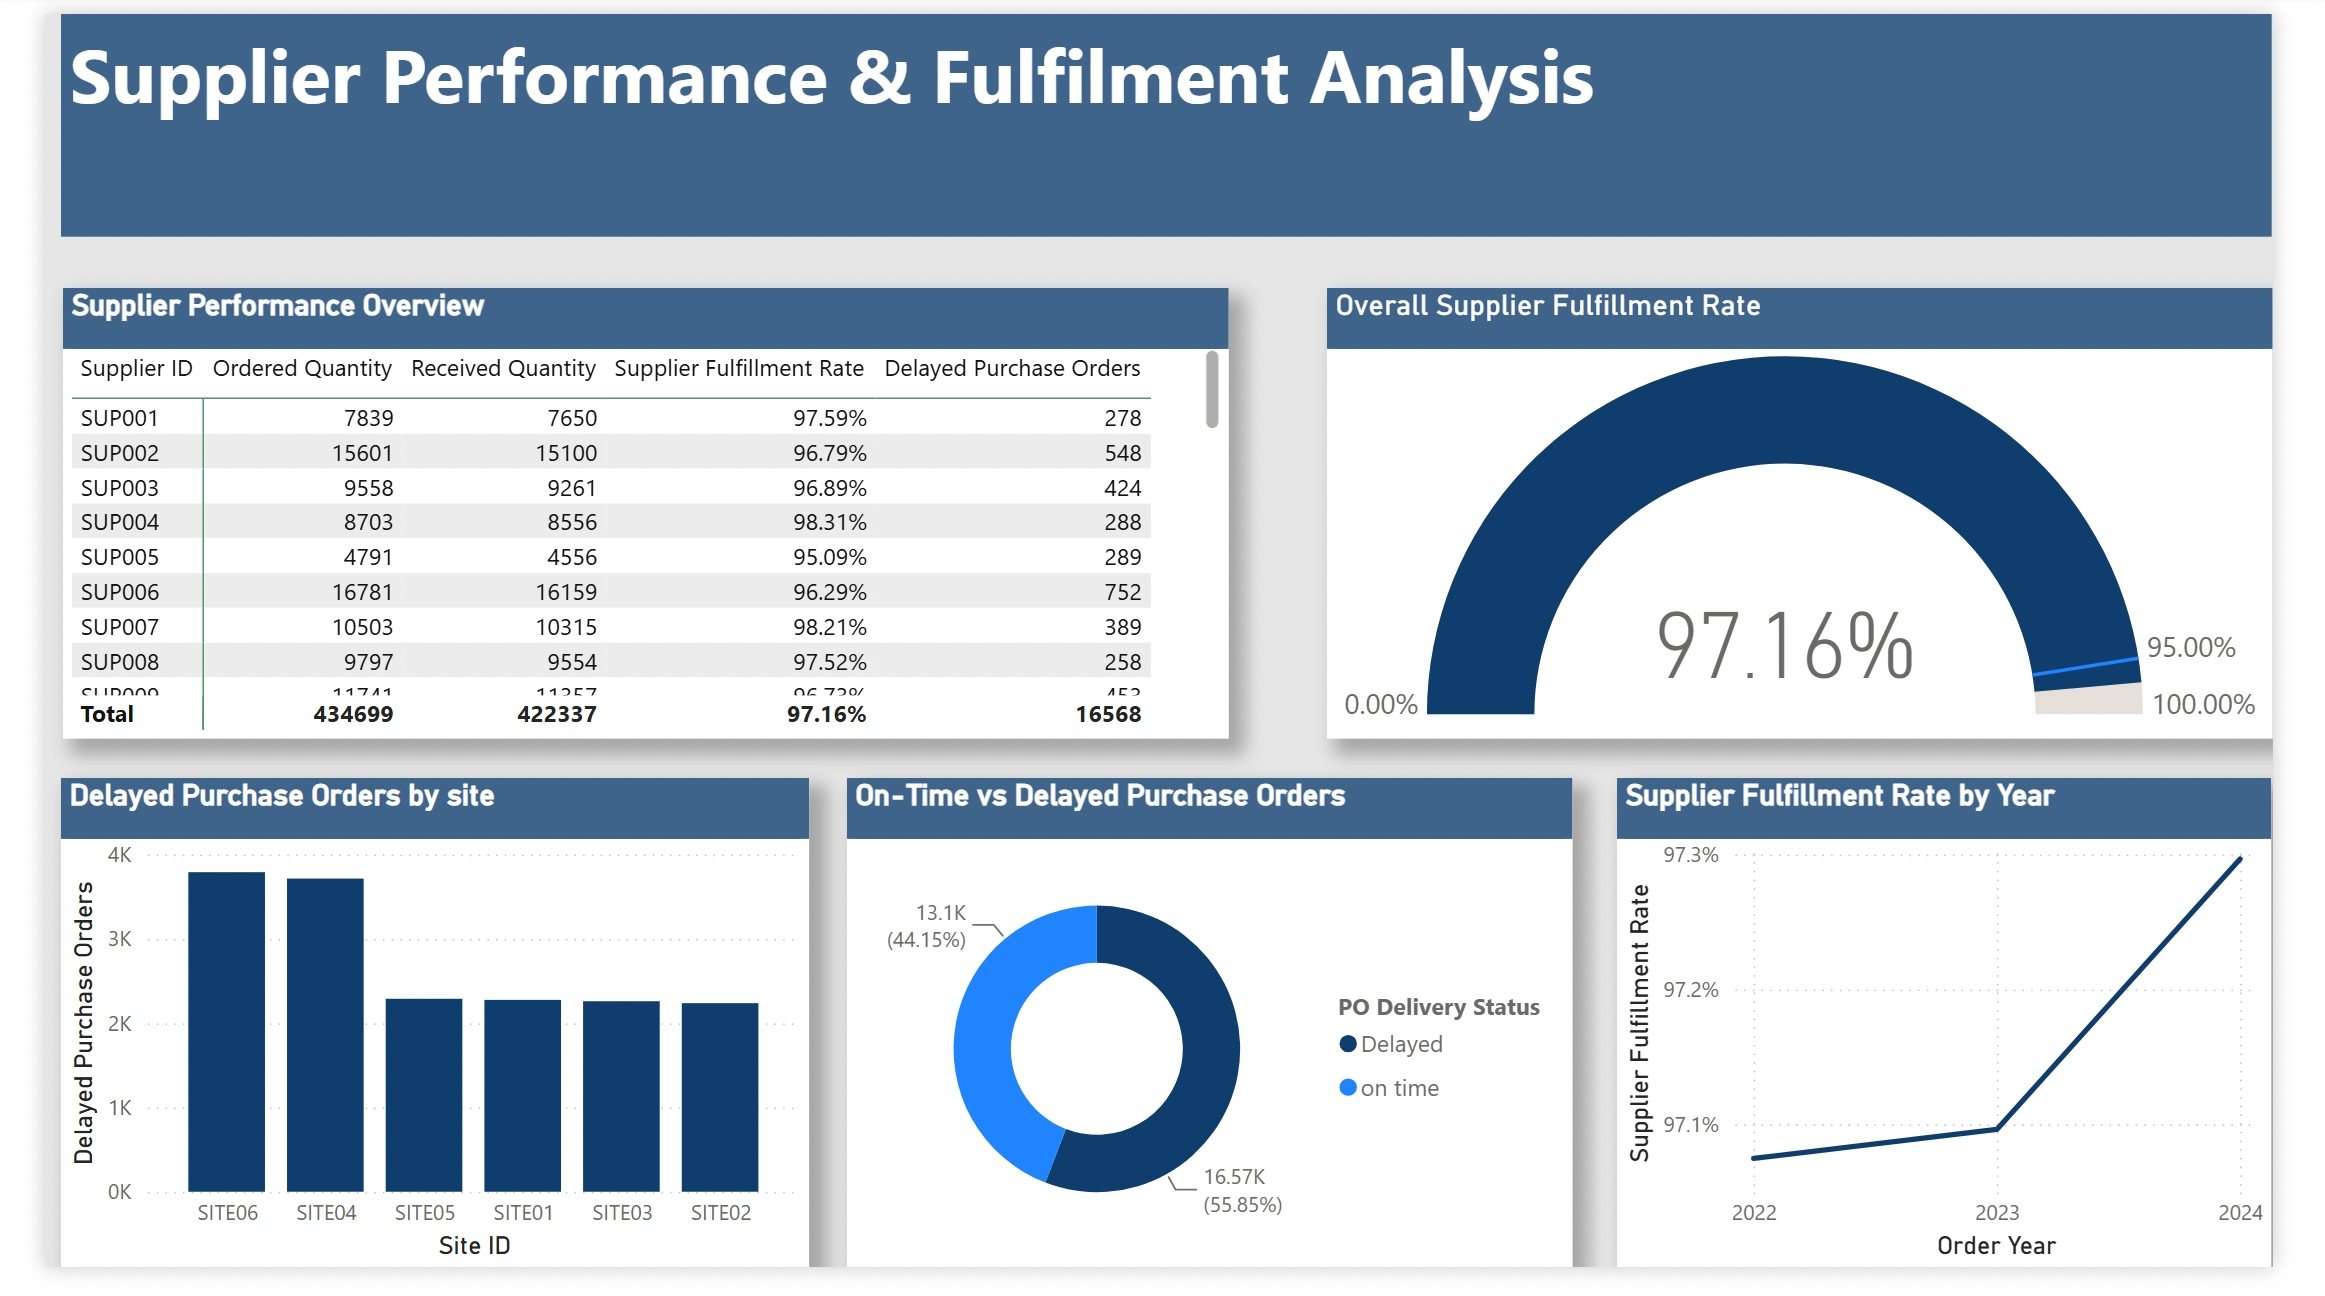

This screenshot's page, from the dashboard's own definition file:
{"tool":"powerbi","page":{"name":"Supplier Performance","canvas":[1280,720],"ordinal":1},"visuals":[{"type":"clusteredColumnChart","title":"Delayed Purchase Orders by site","fields":{"Category":["supply_chain_project purchase_orders.site_id"],"Y":["supply_chain_project purchase_orders.Delayed Purchase Orders"]},"box":[9.5,439.3,429.8,281.3],"z":0},{"type":"pivotTable","title":"Supplier Performance Overview","fields":{"Rows":["supply_chain_project purchase_orders.supplier_id"],"Values":["Sum(supply_chain_project purchase_orders.ordered_qty)","Sum(supply_chain_project purchase_orders.received_qty)","supply_chain_project purchase_orders.Supplier Fulfillment Rate","supply_chain_project purchase_orders.Delayed Purchase Orders"]},"box":[10.2,157.1,670,259.2],"z":1000},{"type":"donutChart","title":"On-Time vs Delayed Purchase Orders","fields":{"Category":["supply_chain_project purchase_orders.PO Delivery Status"],"Y":["CountNonNull(supply_chain_project purchase_orders.po_id)"]},"box":[461.4,439.3,417.2,281.3],"z":2000},{"type":"gauge","title":"Overall Supplier Fulfillment Rate","fields":{"Y":["supply_chain_project purchase_orders.Supplier Fulfillment Rate"]},"box":[736.4,158,543.6,259.2],"z":3000},{"type":"lineChart","title":"Supplier Fulfillment Rate by Year","fields":{"Category":["supply_chain_project purchase_orders.Order Year"],"Y":["supply_chain_project purchase_orders.Supplier Fulfillment Rate"]},"box":[903.9,439.3,376.1,281.3],"z":4000},{"type":"textbox","box":[9.3,0,1270.7,127.8],"z":5000}]}

Visuals, with their boxes in screenshot pixels (x1, y1, x2, y2), scaled from the page's 1280x720 canvas onto the 2325x1296 screenshot:
"Delayed Purchase Orders by site" clusteredColumnChart: bbox(17, 791, 798, 1295)
"Supplier Performance Overview" pivotTable: bbox(19, 283, 1236, 749)
"On-Time vs Delayed Purchase Orders" donutChart: bbox(838, 791, 1596, 1295)
"Overall Supplier Fulfillment Rate" gauge: bbox(1338, 284, 2324, 751)
"Supplier Fulfillment Rate by Year" lineChart: bbox(1642, 791, 2324, 1295)
textbox: bbox(17, 0, 2324, 230)
